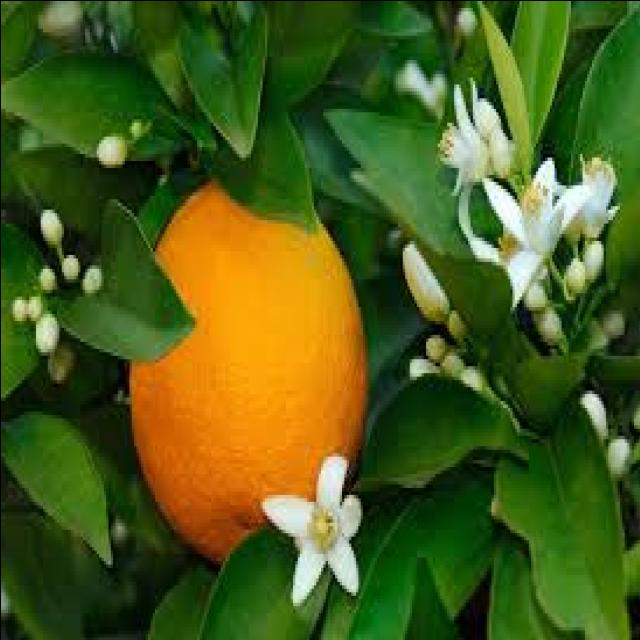orange: (116, 170, 356, 554)
